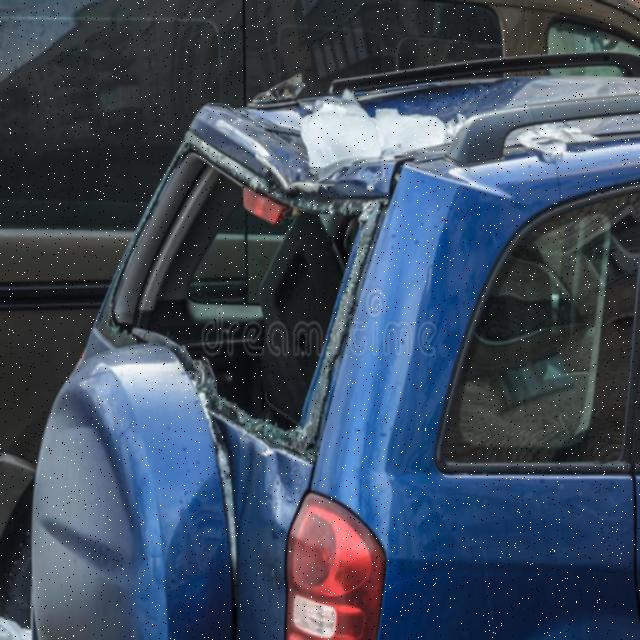Rear-windscreen-Damage: (96, 124, 383, 468)
roof-dent: (186, 37, 640, 214)
